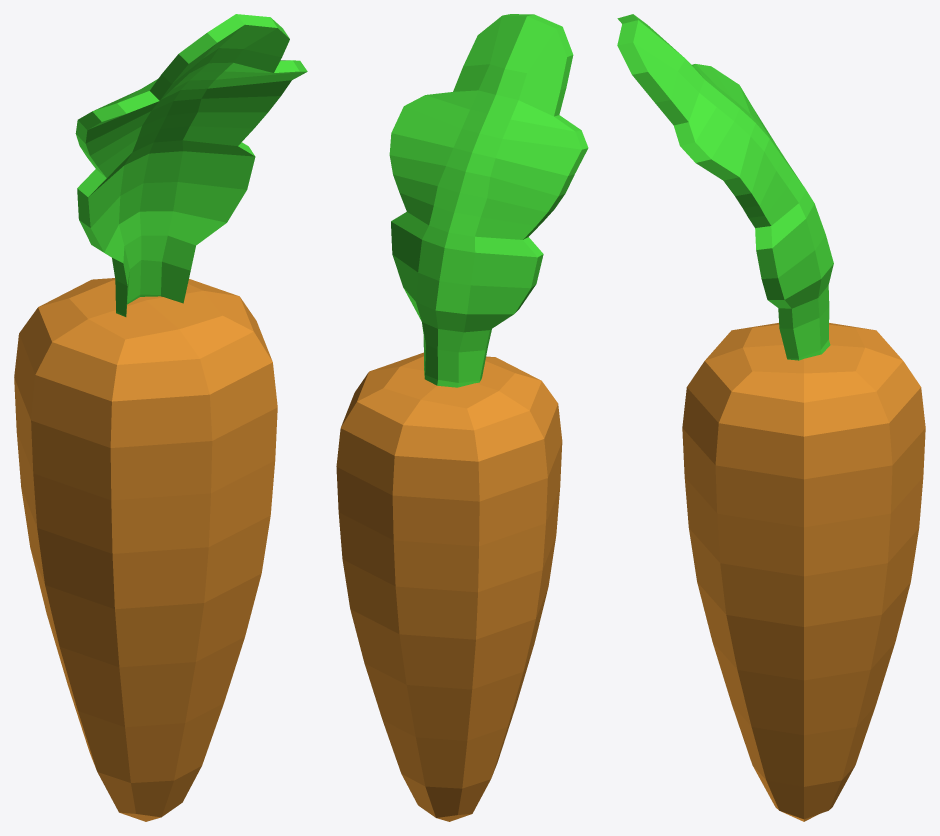
The model's file is carrot.fbx.
3 views of the same model, side by side, from view 1: azimuth 30°, elevation 25°; view 2: azimuth 150°, elevation 25°; view 3: azimuth 270°, elevation 25° (orthographic). The views are drawn at different scales.
Visible parts, largest first — view 1: carrot; view 2: carrot; view 3: carrot.
Boxes of the visible parts, x1=… form: carrot: x1=14, y1=14, x2=307, y2=821; carrot: x1=336, y1=14, x2=588, y2=821; carrot: x1=617, y1=14, x2=925, y2=821.
Size of the model in its own units: 150 by 546 by 190.
